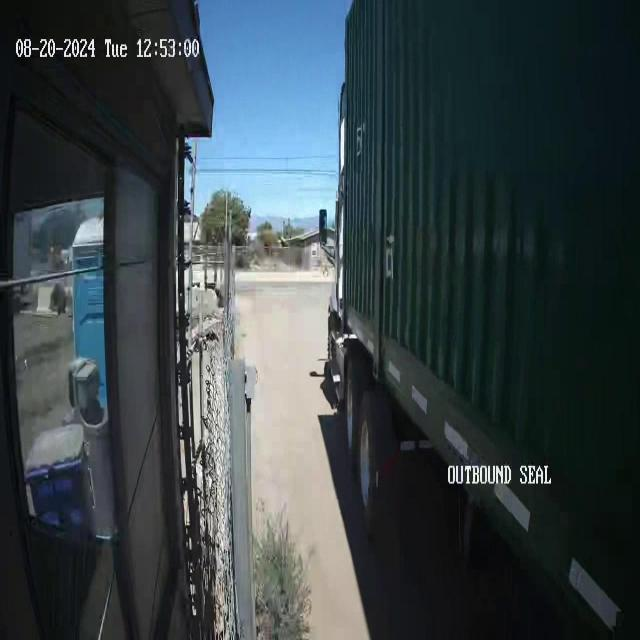TRUCK_OUT: (320, 1, 639, 635)
